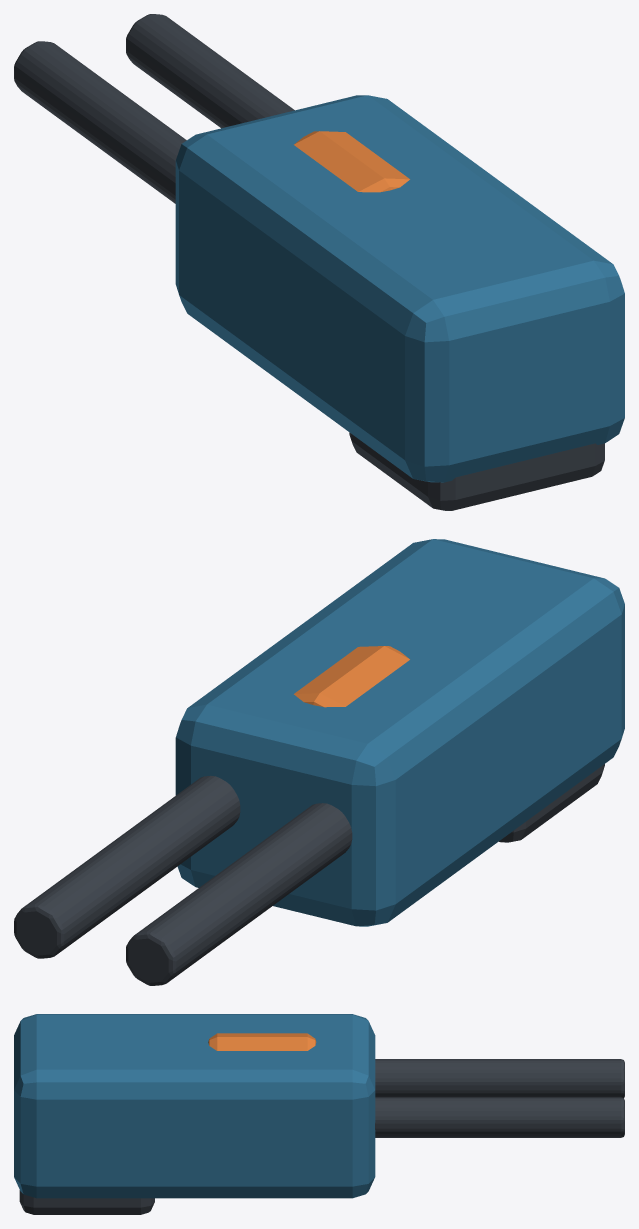
File: KineticRepeater.fbx
3 renders of one model, top to bottom at view 1: azimuth 30°, elevation 25°; view 2: azimuth 150°, elevation 25°; view 3: azimuth 270°, elevation 25°, orthographic. The views are drawn at different scales.
Visible parts, largest first — view 1: KineticHousing_RENDER, KineticBarrelA_RENDER, KineticBarrelB_RENDER, KineticMount_RENDER, KineticBreech_RENDER; view 2: KineticHousing_RENDER, KineticBarrelA_RENDER, KineticBarrelB_RENDER, KineticBreech_RENDER, KineticMount_RENDER; view 3: KineticHousing_RENDER, KineticBarrelB_RENDER, KineticBarrelA_RENDER, KineticMount_RENDER, KineticBreech_RENDER.
Part boxes in pixels (x1=…): KineticHousing_RENDER: x1=175, y1=95, x2=624, y2=482; KineticBarrelA_RENDER: x1=14, y1=41, x2=186, y2=203; KineticBarrelB_RENDER: x1=126, y1=14, x2=294, y2=128; KineticMount_RENDER: x1=349, y1=432, x2=604, y2=510; KineticBreech_RENDER: x1=294, y1=131, x2=409, y2=192; KineticHousing_RENDER: x1=175, y1=539, x2=624, y2=926; KineticBarrelA_RENDER: x1=126, y1=803, x2=352, y2=985; KineticBarrelB_RENDER: x1=14, y1=775, x2=240, y2=958; KineticBreech_RENDER: x1=294, y1=646, x2=409, y2=707; KineticMount_RENDER: x1=499, y1=764, x2=604, y2=842; KineticHousing_RENDER: x1=14, y1=1014, x2=375, y2=1198; KineticBarrelB_RENDER: x1=375, y1=1097, x2=624, y2=1137; KineticBarrelA_RENDER: x1=375, y1=1059, x2=624, y2=1097; KineticMount_RENDER: x1=19, y1=1190, x2=154, y2=1214; KineticBreech_RENDER: x1=208, y1=1033, x2=316, y2=1050.
Size of the model in its own units: 0.62 by 0.6 by 2.16.
